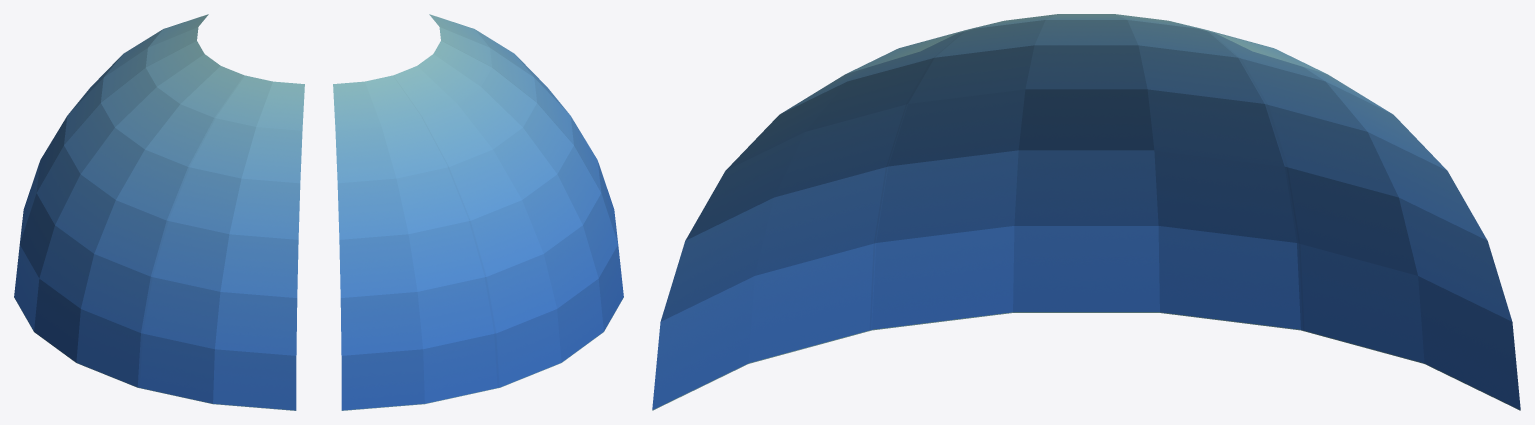
Rendered from Sky.fbx.
3 views of the same model, side by side, from view 1: azimuth 30°, elevation 25°; view 2: azimuth 150°, elevation 25°; view 3: azimuth 270°, elevation 25° (orthographic). The views are drawn at different scales.
Visible parts, largest first — view 1: Sphere; view 2: Sphere; view 3: Sphere.
Part boxes in pixels (x1,y1,x2,y2): Sphere: (14, 14, 304, 410); Sphere: (333, 14, 623, 410); Sphere: (652, 14, 1520, 410).
Bounding box in the file's own units: 581 × 271 × 319.
